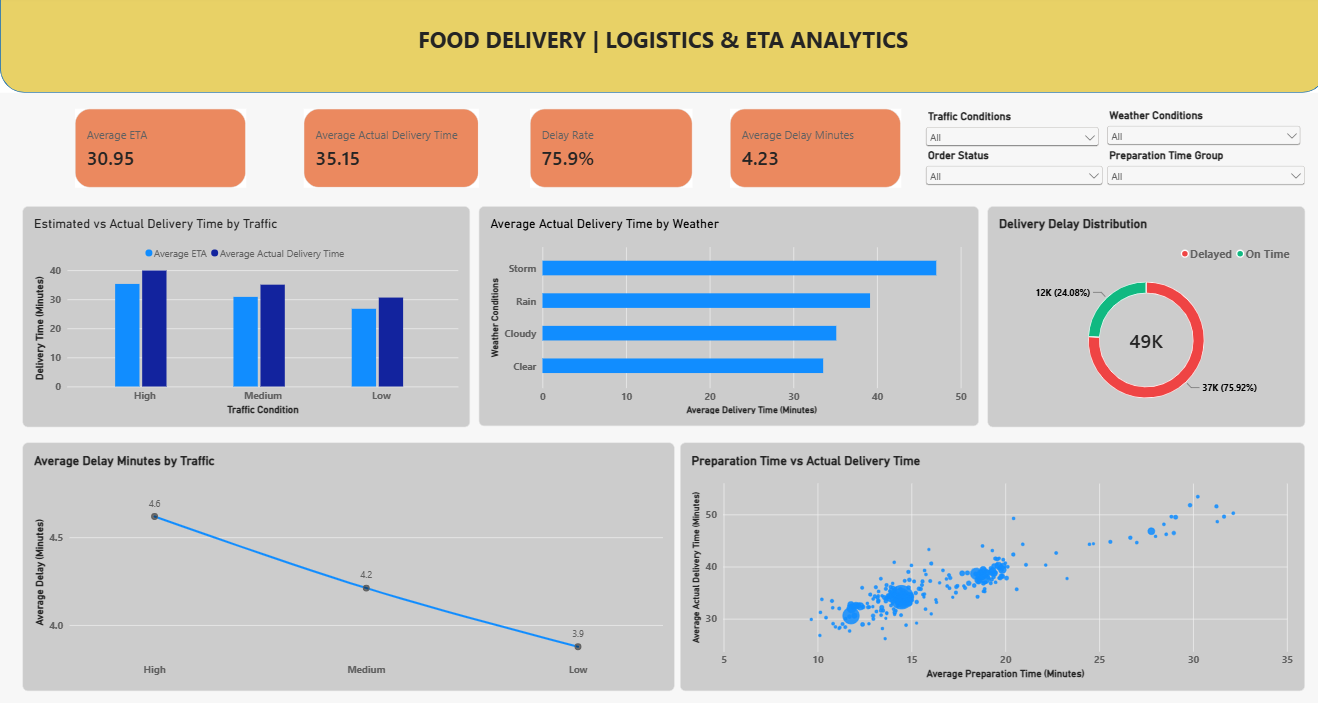

Layout of this report page (visuals, bound fields, positions):
{"tool":"powerbi","page":{"name":"Logistics & ETA Analytics","canvas":[1920,1080],"ordinal":4},"visuals":[{"type":"shape","box":[0,0,1920.7,141.4],"z":0},{"type":"textbox","box":[0,41.4,1920.7,55.2],"z":1000},{"type":"cardVisual","fields":{"Data":["FDA.Average ETA"]},"box":[108.6,164.7,247.9,114],"z":2000},{"type":"cardVisual","fields":{"Data":["FDA.Average Actual Delivery Time"]},"box":[439.7,164.7,253.4,114],"z":3000},{"type":"cardVisual","fields":{"Data":["FDA.Delay Rate"]},"box":[767.3,164.7,235.3,114],"z":4000},{"type":"cardVisual","fields":{"Data":["FDA.Average Delay Minutes"]},"box":[1056.8,164.7,247.9,114],"z":5000},{"type":"clusteredColumnChart","title":"Estimated vs Actual Delivery Time by Traffic","fields":{"Category":["FDA.traffic_level"],"Y":["FDA.Average ETA","FDA.Average Actual Delivery Time"]},"box":[32,306,648,320],"z":6000},{"type":"clusteredBarChart","title":"Average Actual Delivery Time by Weather","fields":{"Category":["FDA.weather"],"Y":["FDA.Average Actual Delivery Time"]},"box":[694,306,724,318],"z":7000},{"type":"lineChart","title":"Average Delay Minutes by Traffic","fields":{"Category":["FDA.traffic_level"],"Y":["FDA.Average Delay Minutes"]},"box":[32,648,944,360],"z":8000},{"type":"donutChart","title":"Delivery Delay Distribution","fields":{"Category":["FDA.Delivery Delay Status"],"Y":["FDA.Completed Orders"]},"box":[1430,306,460,320],"z":9000},{"type":"scatterChart","title":"Preparation Time vs Actual Delivery Time","fields":{"Category":["FDA.restaurant_id"],"Size":["FDA.Completed Orders"],"X":["FDA.Average Preparation Time"],"Y":["FDA.Average Actual Delivery Time"]},"box":[985,647.5,905,360],"z":10000},{"type":"slicer","fields":{"Values":["FDA.traffic_level"]},"box":[1335.5,166.5,260,56],"z":11000},{"type":"slicer","fields":{"Values":["FDA.weather"]},"box":[1597.9,164.7,290,56],"z":12000},{"type":"slicer","fields":{"Values":["FDA.order_status"]},"box":[1335.5,222.6,266,56],"z":13000},{"type":"slicer","fields":{"Values":["FDA.prep_time_group"]},"box":[1597.9,222.6,296,56],"z":14000}]}

Visuals, with their boxes on the page's 1920x1080 design canvas (x1, y1, x2, y2). These are canvas units, not pixel positions in the 1318x703 screenshot, which may show the page scaled, cropped or inside an application window:
shape: 0/0/1921/141
textbox: 0/41/1921/97
cardVisual - FDA.Average ETA: 109/165/356/279
cardVisual - FDA.Average Actual Delivery Time: 440/165/693/279
cardVisual - FDA.Delay Rate: 767/165/1003/279
cardVisual - FDA.Average Delay Minutes: 1057/165/1305/279
"Estimated vs Actual Delivery Time by Traffic" clusteredColumnChart: 32/306/680/626
"Average Actual Delivery Time by Weather" clusteredBarChart: 694/306/1418/624
"Average Delay Minutes by Traffic" lineChart: 32/648/976/1008
"Delivery Delay Distribution" donutChart: 1430/306/1890/626
"Preparation Time vs Actual Delivery Time" scatterChart: 985/648/1890/1008
slicer - FDA.traffic_level: 1336/166/1596/222
slicer - FDA.weather: 1598/165/1888/221
slicer - FDA.order_status: 1336/223/1602/279
slicer - FDA.prep_time_group: 1598/223/1894/279
